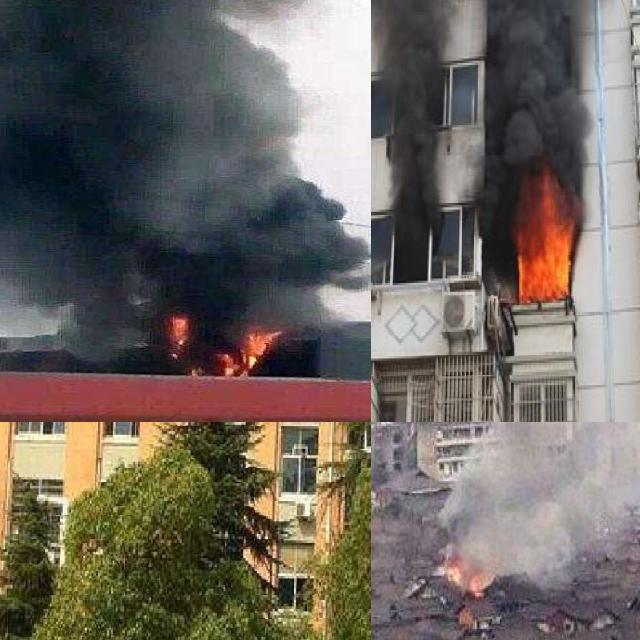fire: (508, 160, 580, 300), (206, 324, 278, 376), (444, 557, 490, 593), (166, 313, 192, 362)
smoke: (0, 0, 352, 338), (456, 422, 640, 574), (467, 0, 585, 231), (371, 0, 461, 254)
